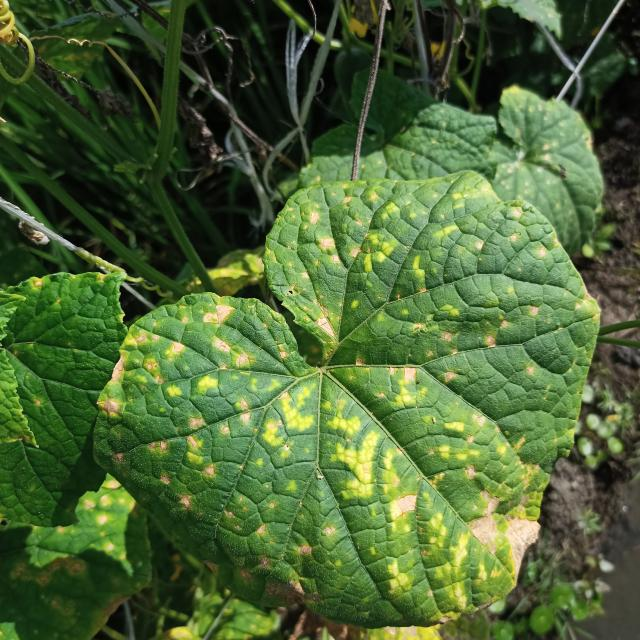disease_cucumber: (96, 184, 571, 610)
